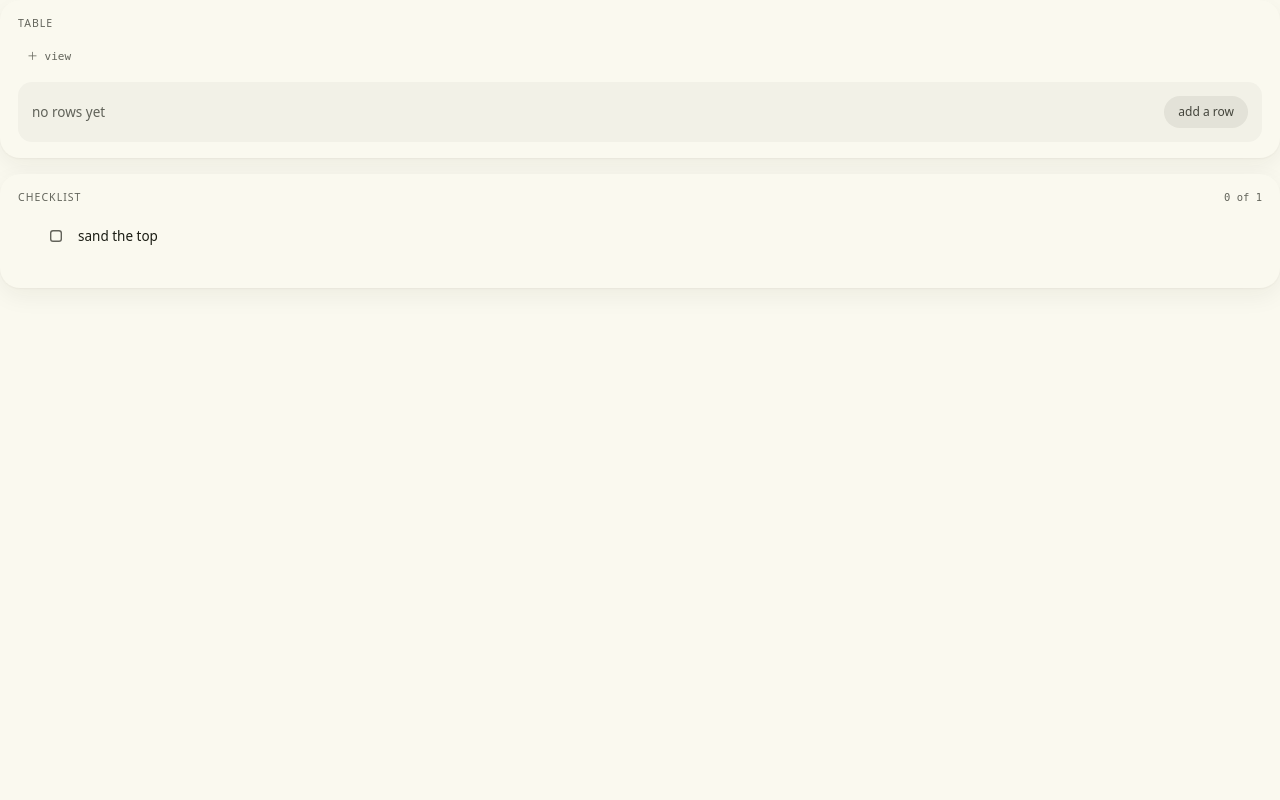
BlockCanvas — "＋ view" reaches an empty database too (KAN-243) › undoing an add-view toast after editing ANOTHER block leaves that edit alone (KAN-243 fix-3a)
Click the button with aria-label "add a view": (49, 57) [18,44,80,70]
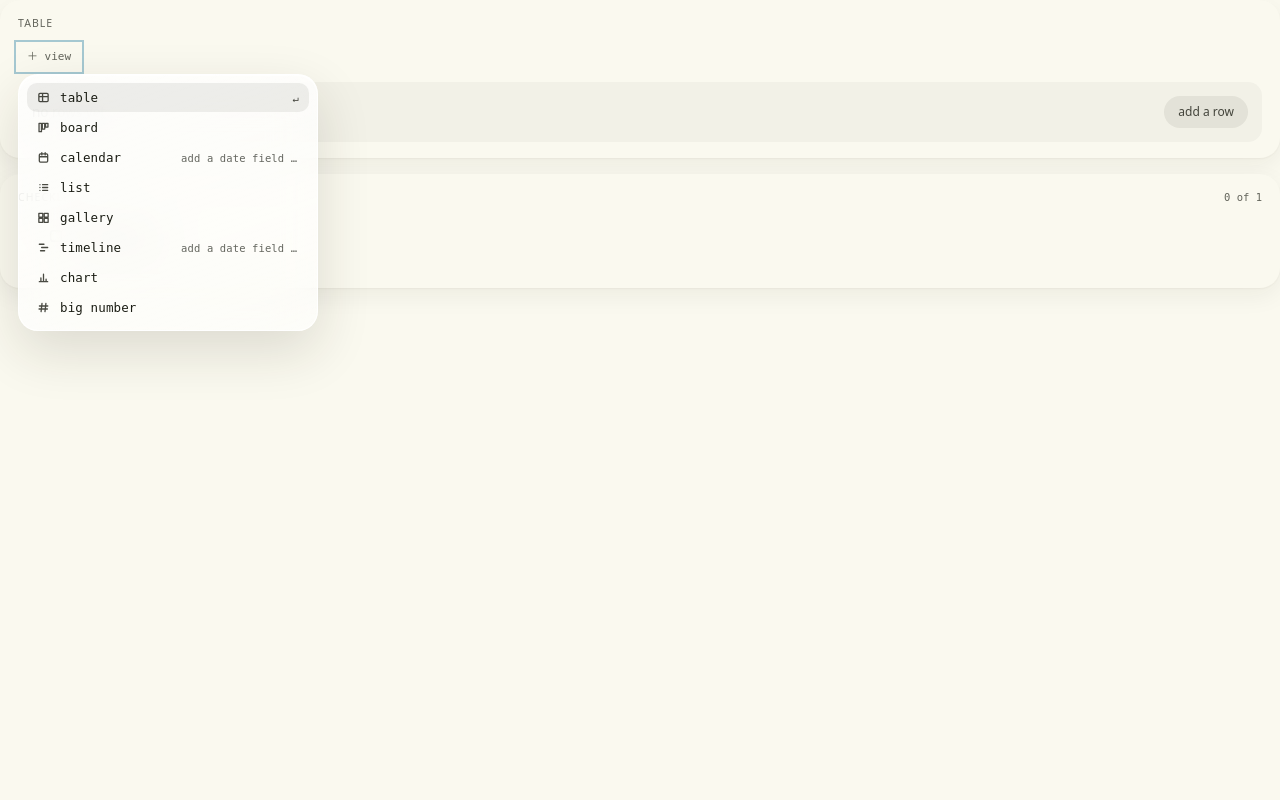
Click the option "board": (68, 128) [37,120,98,135]
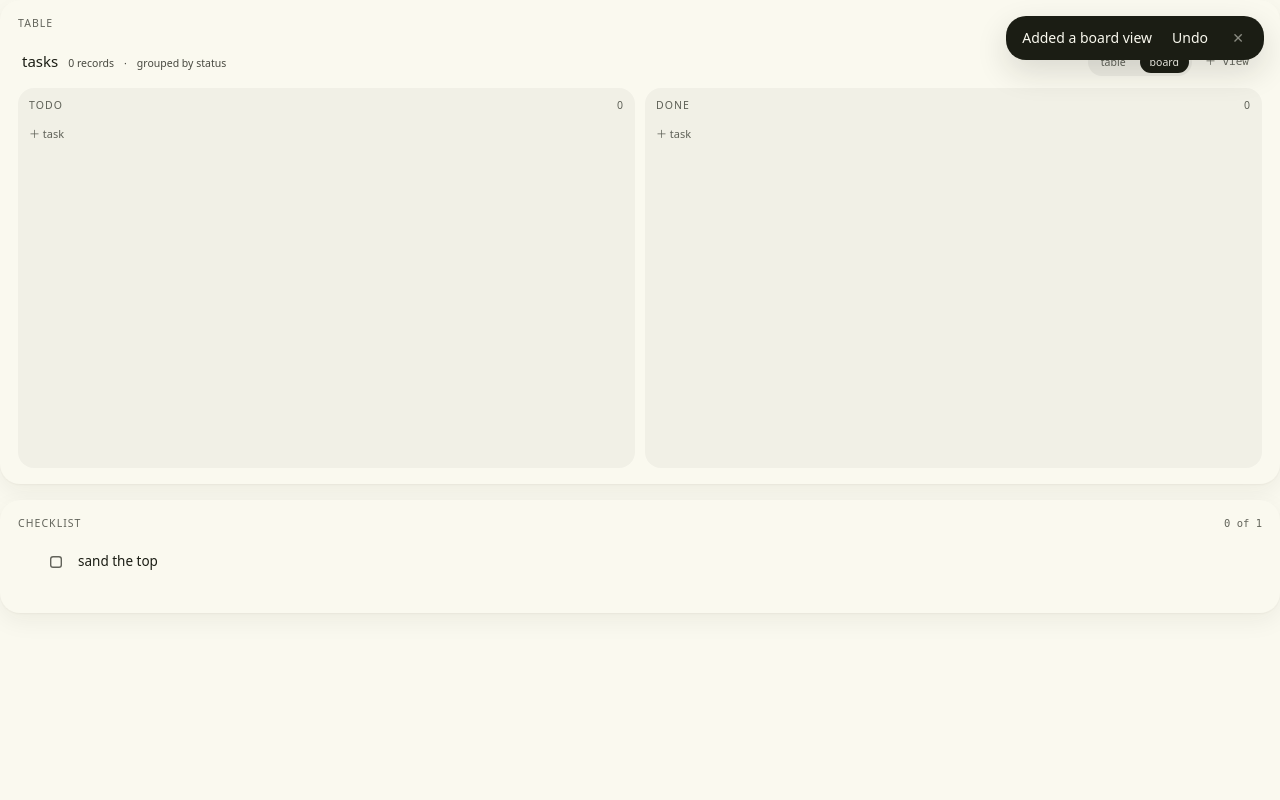
Click the checkbox named "sand the top": (56, 562) [44,548,68,574]
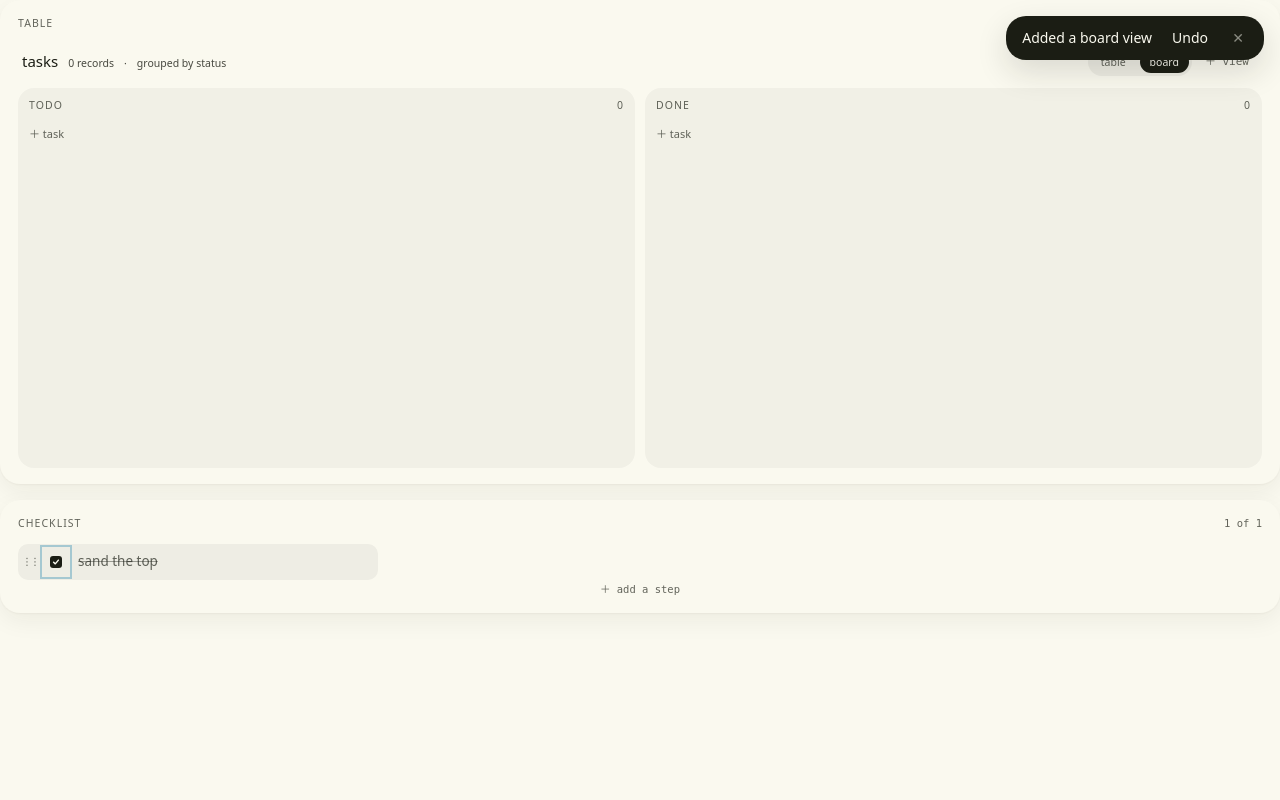
Expected: the checkbox named "sand the top" is checked, [44,548,68,574]
Click the button "Undo": (1190, 38) [1164,26,1216,50]
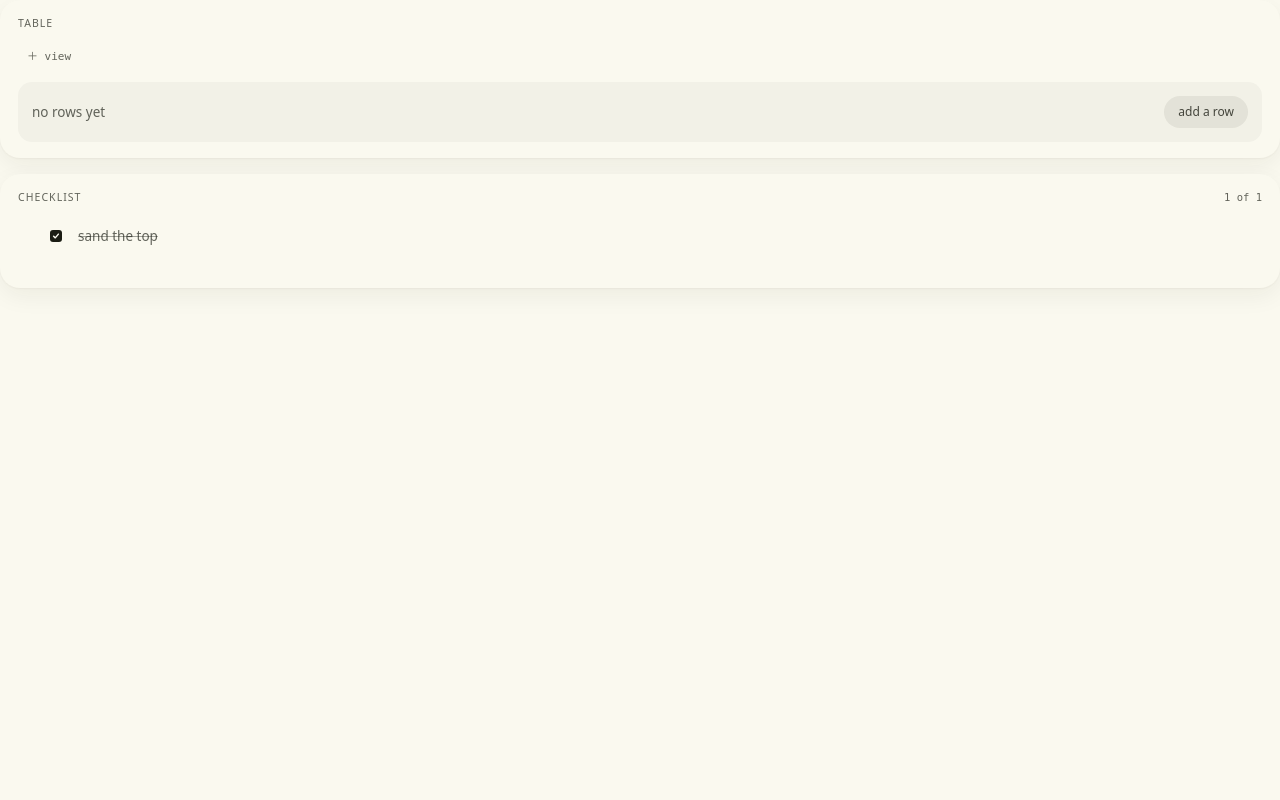
Expected: the tab "board" is gone
